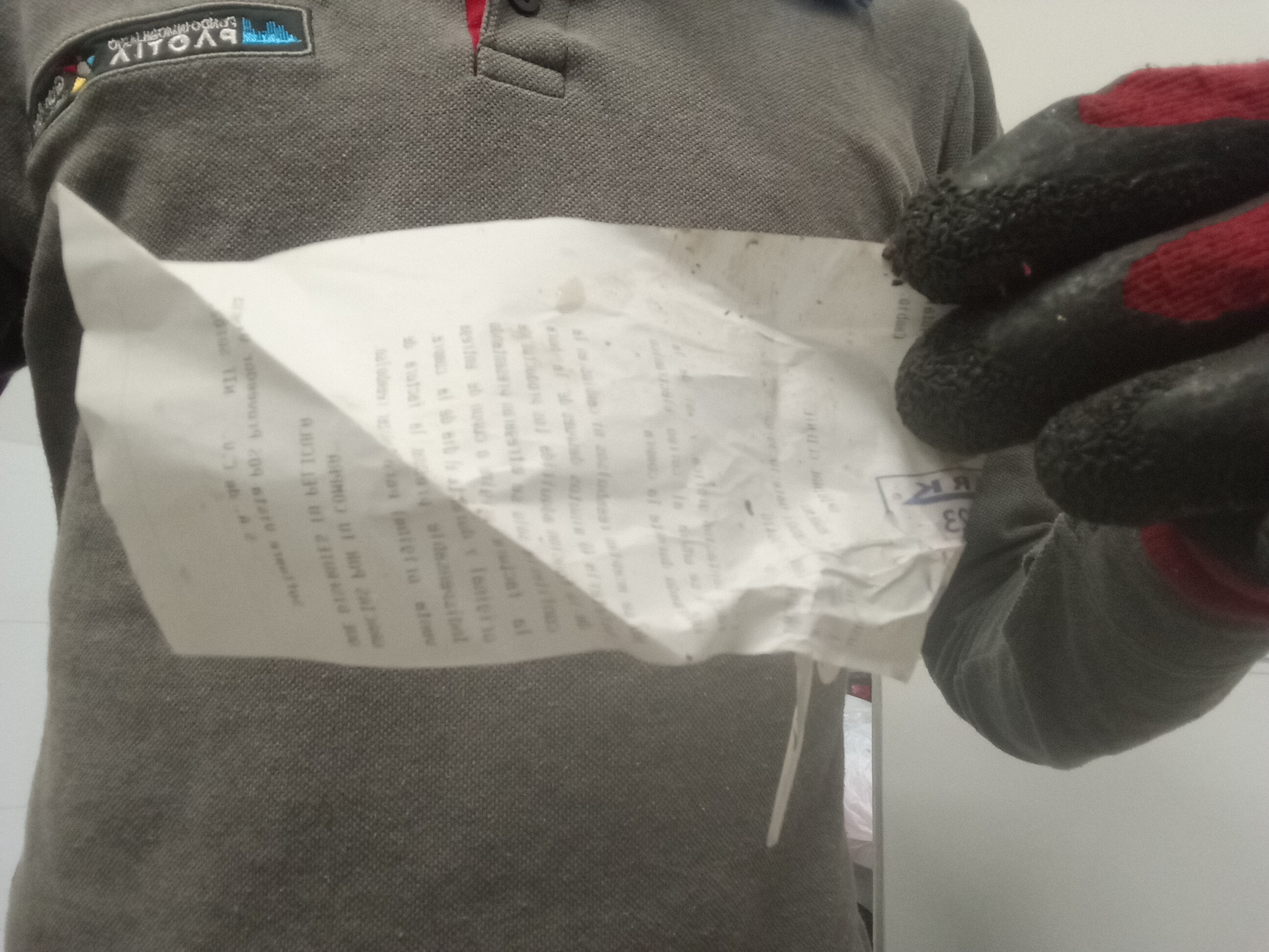Papel: (56, 186, 984, 682)
